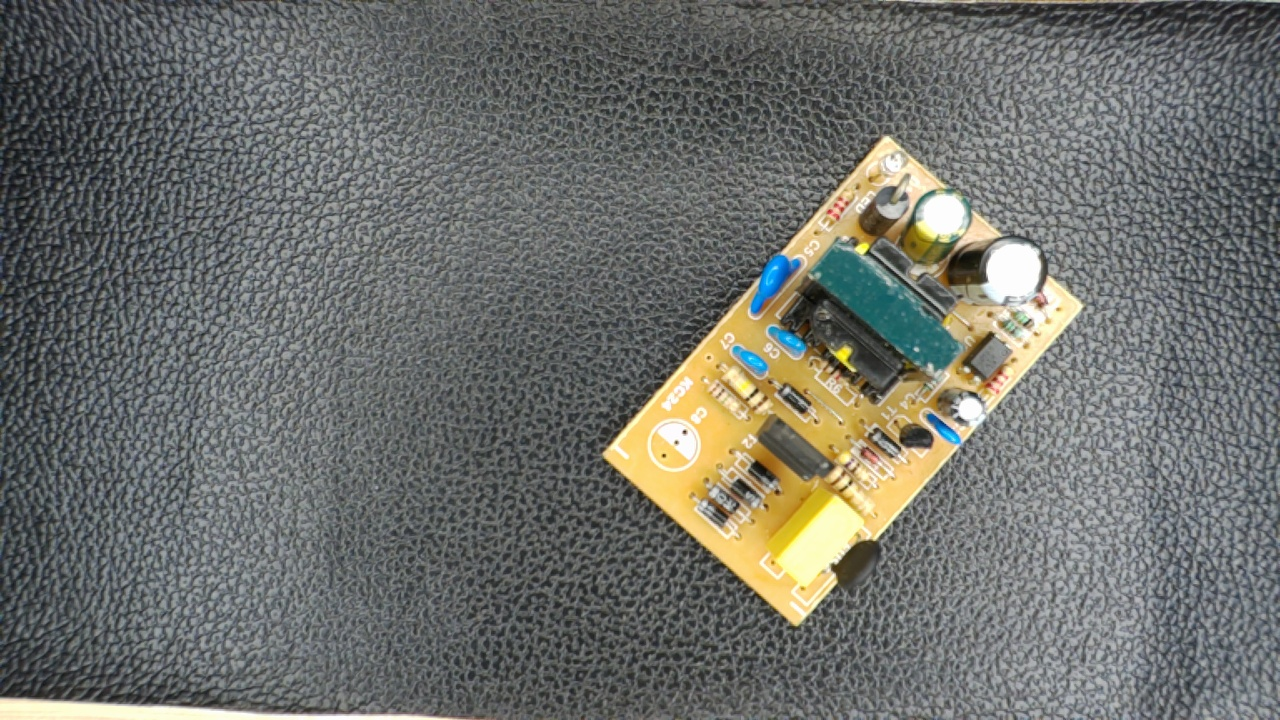fuse: (818, 527, 887, 593)
mov: (741, 248, 804, 317)
optocoupler: (963, 332, 1011, 384)
